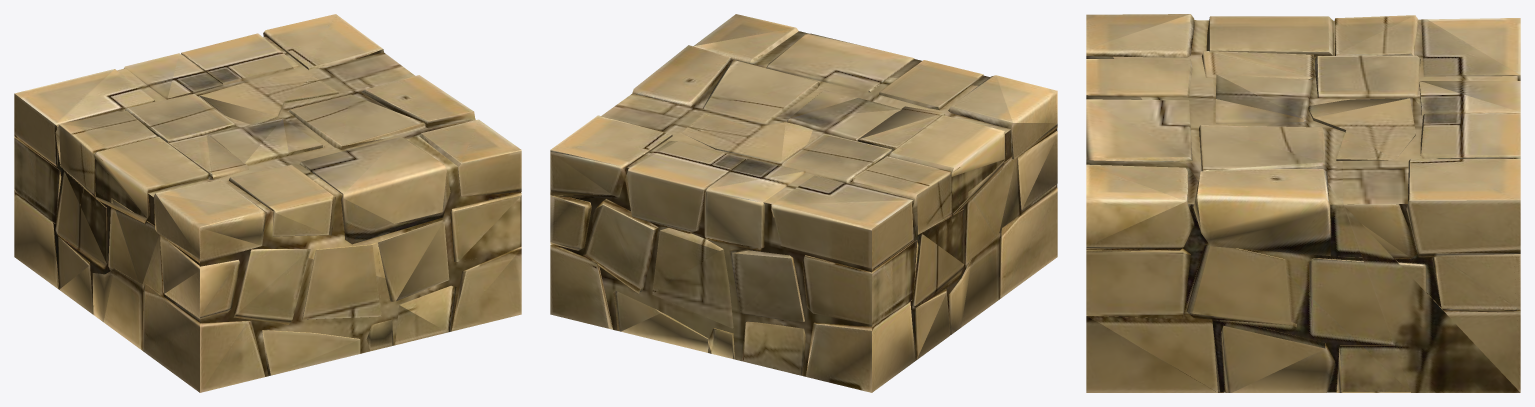
Rendered from block.glb.
3 views of the same model, side by side, from view 1: azimuth 30°, elevation 25°; view 2: azimuth 150°, elevation 25°; view 3: azimuth 270°, elevation 25° (orthographic). The views are drawn at different scales.
Bounding box in the file's own units: 2 × 1 × 2.
Materials: 1 (1 with a texture image).
